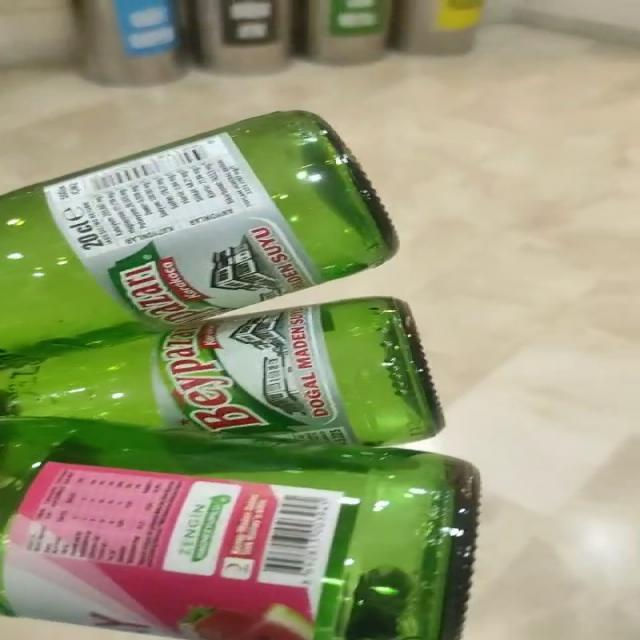Glass: (1, 112, 479, 640)
